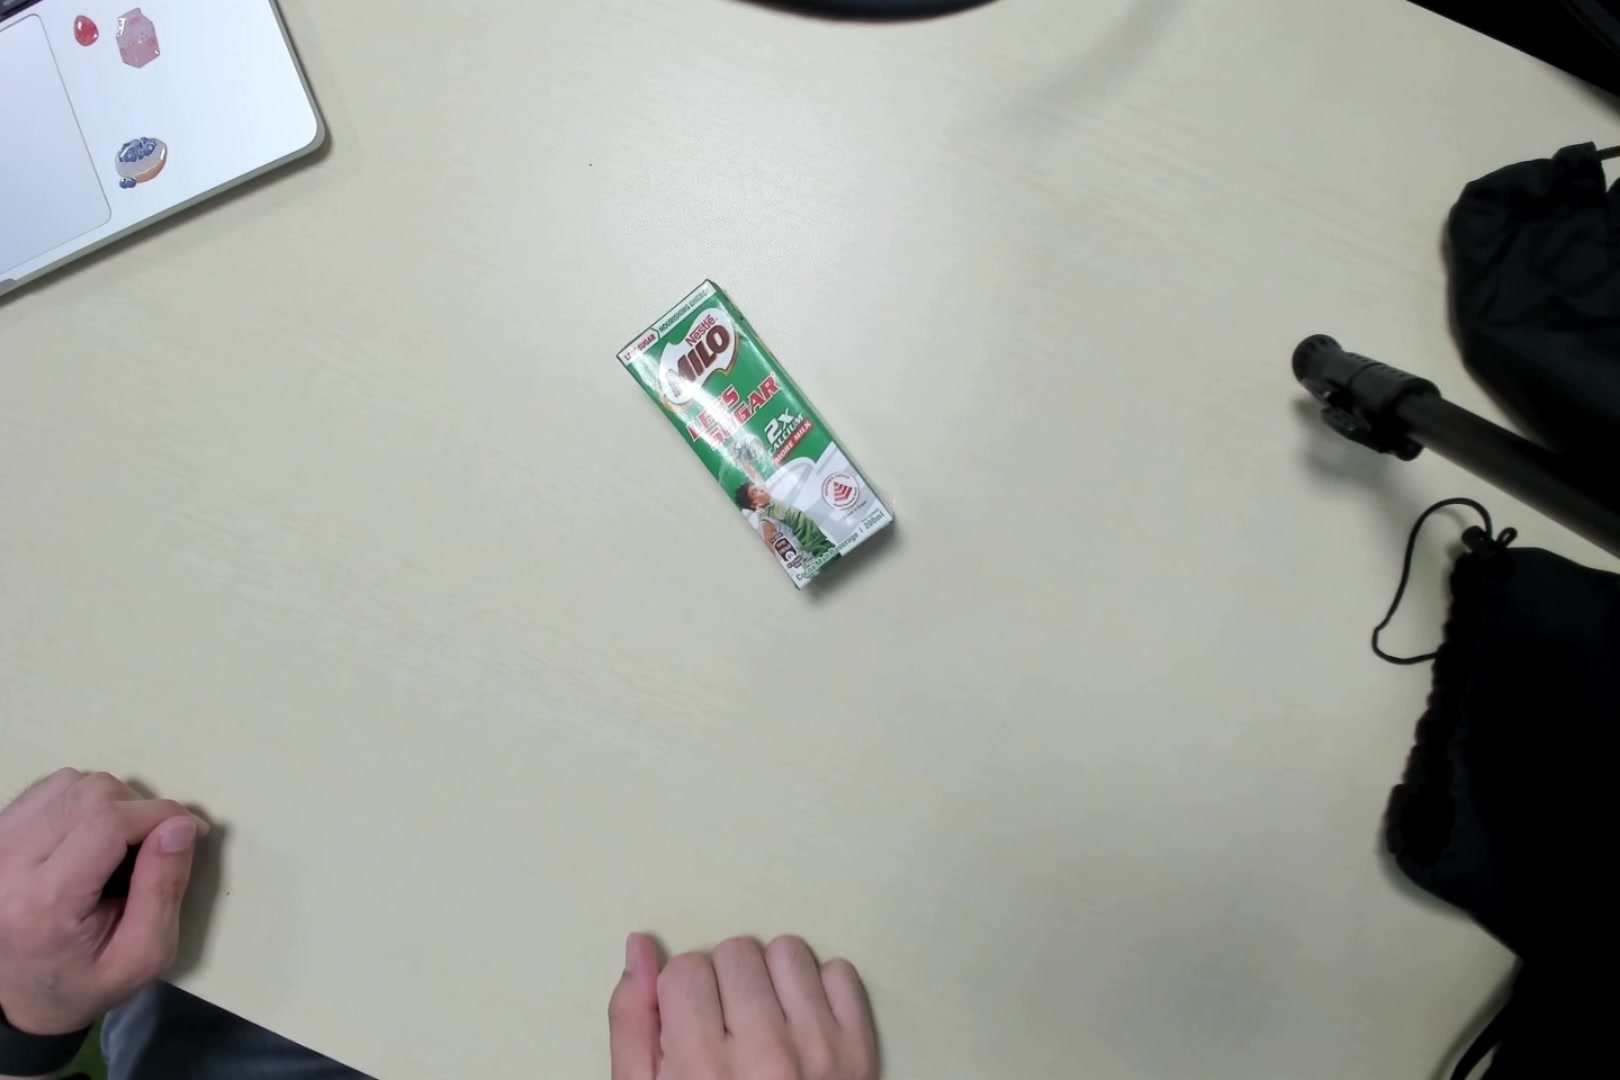SoftDrinksOtherReadyToDrink_100-199g_NonHalal_NonHealthy: (609, 278, 896, 595)
